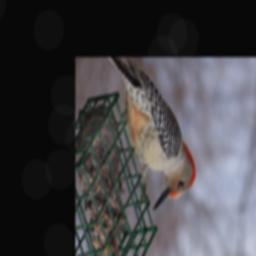Woodpecker: (112, 57, 196, 209)
